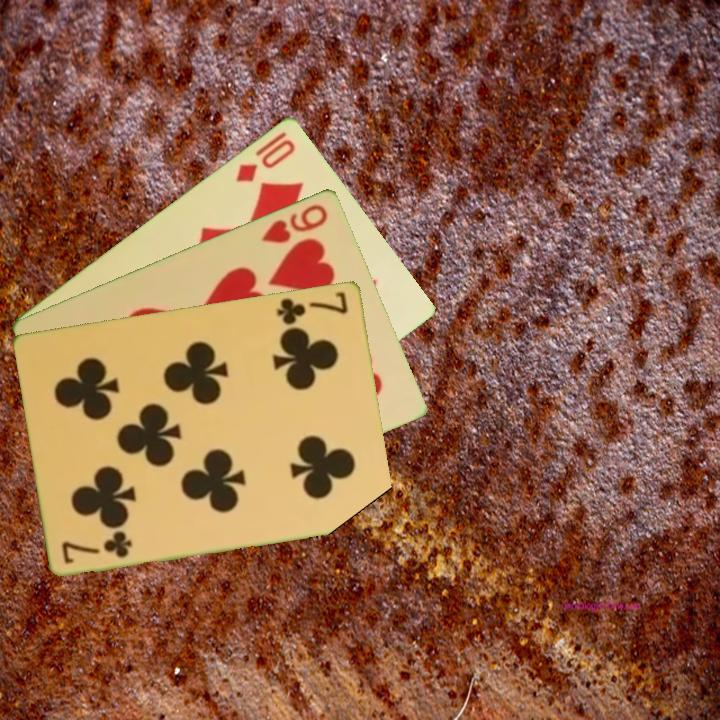10d: (232, 135, 299, 185)
7c: (273, 287, 352, 328), (59, 528, 135, 567)
9h: (258, 200, 331, 246)
